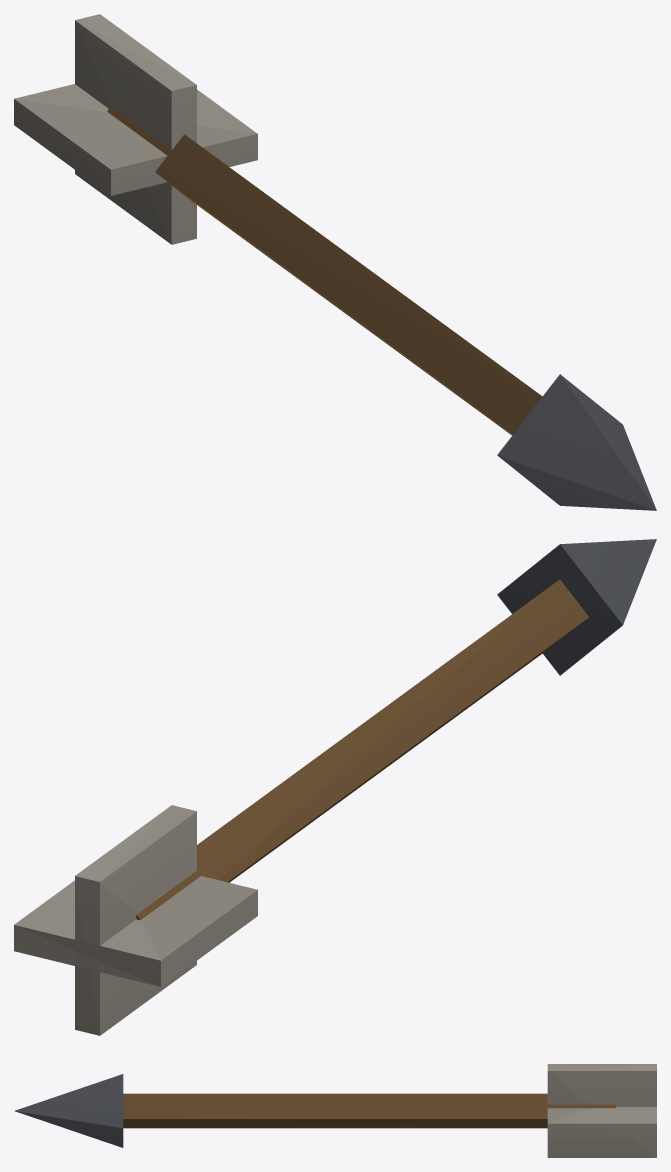
File: arrow.glb
3 renders of one model, top to bottom at view 1: azimuth 30°, elevation 25°; view 2: azimuth 150°, elevation 25°; view 3: azimuth 270°, elevation 25°, orthographic. The views are drawn at different scales.
Parts seen in each view (by area): view 1: arrow; view 2: arrow; view 3: arrow.
Boxes of the visible parts, x1,y1,x2,y2 form: arrow: (14,14,656,510); arrow: (14,539,656,1035); arrow: (14,1064,656,1157).
Bounding box in the file's own units: 0.07 × 0.07 × 0.47.
